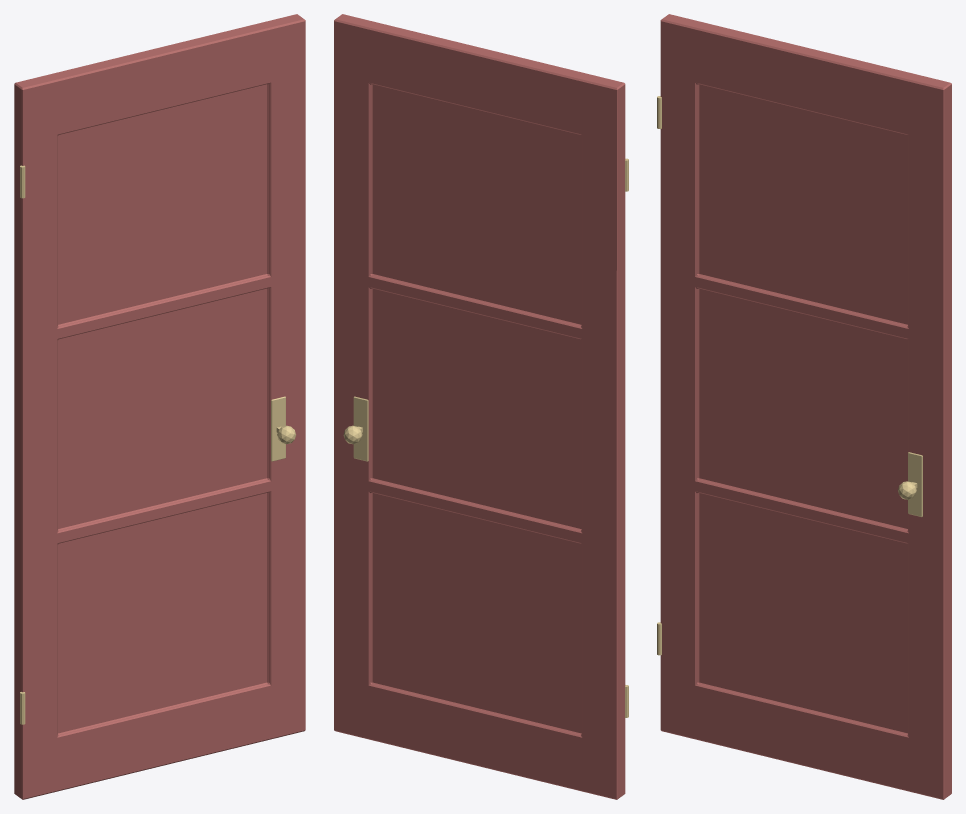
File: door_leaf_back.glb
The picture shows the model from 3 angles, left to right: view 1: azimuth 30°, elevation 25°; view 2: azimuth 150°, elevation 25°; view 3: azimuth 330°, elevation 25°; orthographic projection.
Parts seen in each view (by area): view 1: door_leaf_back_door, door_leaf_back_brass; view 2: door_leaf_back_door, door_leaf_back_brass; view 3: door_leaf_back_door, door_leaf_back_brass.
Boxes of the visible parts, x1,y1,x2,y2 form: door_leaf_back_door: (14,14,305,799); door_leaf_back_brass: (20,165,295,724); door_leaf_back_door: (334,14,625,799); door_leaf_back_brass: (343,158,628,717); door_leaf_back_door: (660,14,951,799); door_leaf_back_brass: (657,96,922,655).
Size of the model in its own units: 0.968 by 2.3 by 0.206.
